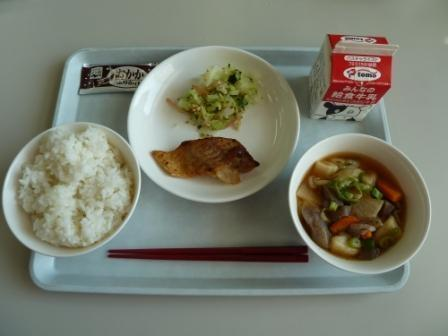Fish: (169, 56, 264, 129), (148, 129, 260, 189)
Milk: (297, 26, 404, 129)
Rice: (5, 126, 136, 250)
Soups: (283, 141, 434, 265)
